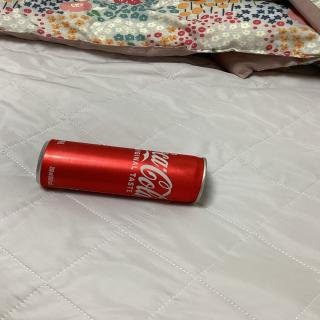cocacola: (33, 135, 215, 211)
